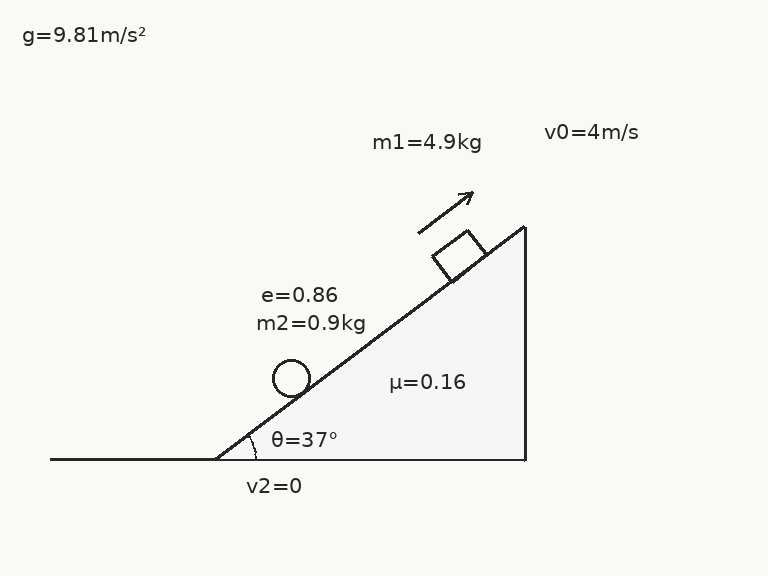ball: (270, 357, 312, 399)
block: (430, 227, 489, 283)
ramp: (214, 225, 526, 461)
